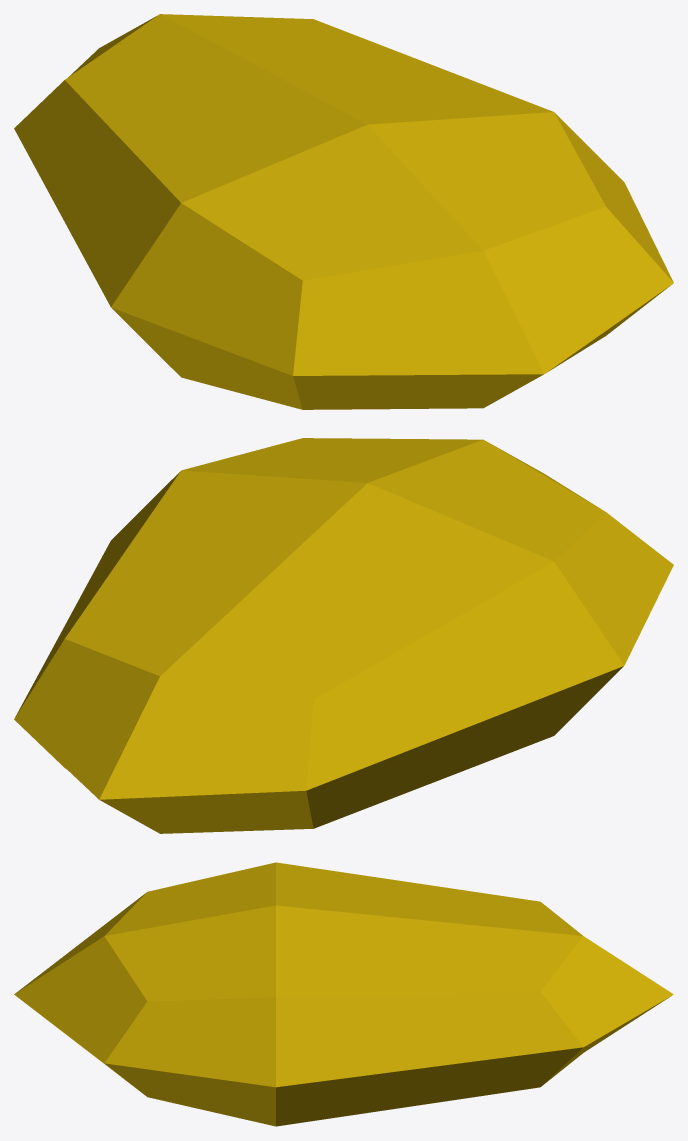
Rendered from TEX_seed_1.fbx.
3 views of the same model, one above another, from view 1: azimuth 30°, elevation 25°; view 2: azimuth 150°, elevation 25°; view 3: azimuth 270°, elevation 25° (orthographic). The views are drawn at different scales.
Visible parts, largest first — view 1: F_Seed; view 2: F_Seed; view 3: F_Seed.
Part boxes in pixels (x1=…): F_Seed: x1=14, y1=14, x2=673, y2=409; F_Seed: x1=14, y1=438, x2=673, y2=833; F_Seed: x1=14, y1=862, x2=673, y2=1126.
Bounding box in the file's own units: 5.43 × 2.43 × 8.15.
Materials: 1 (1 with a texture image).
